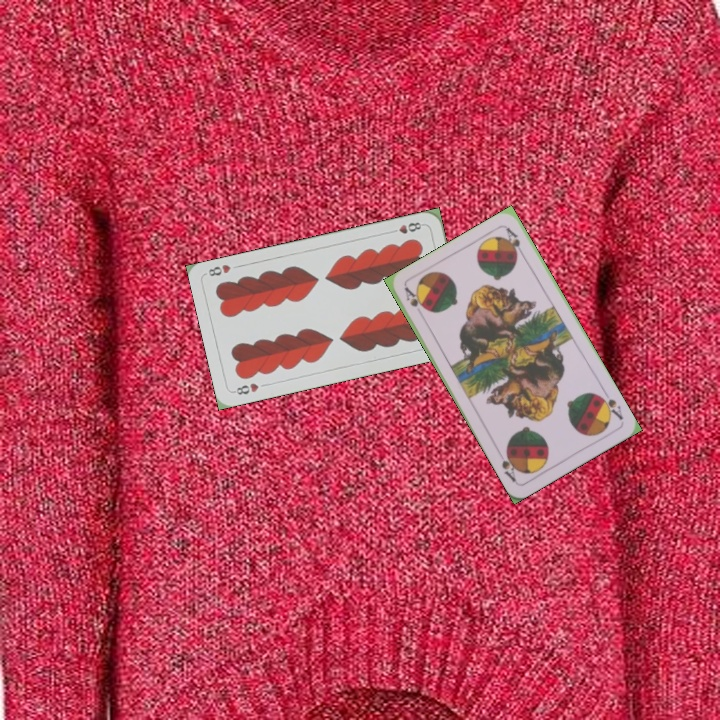H8: (386, 218, 426, 236), (229, 379, 261, 397)
SA: (594, 386, 625, 423), (400, 283, 427, 312)
